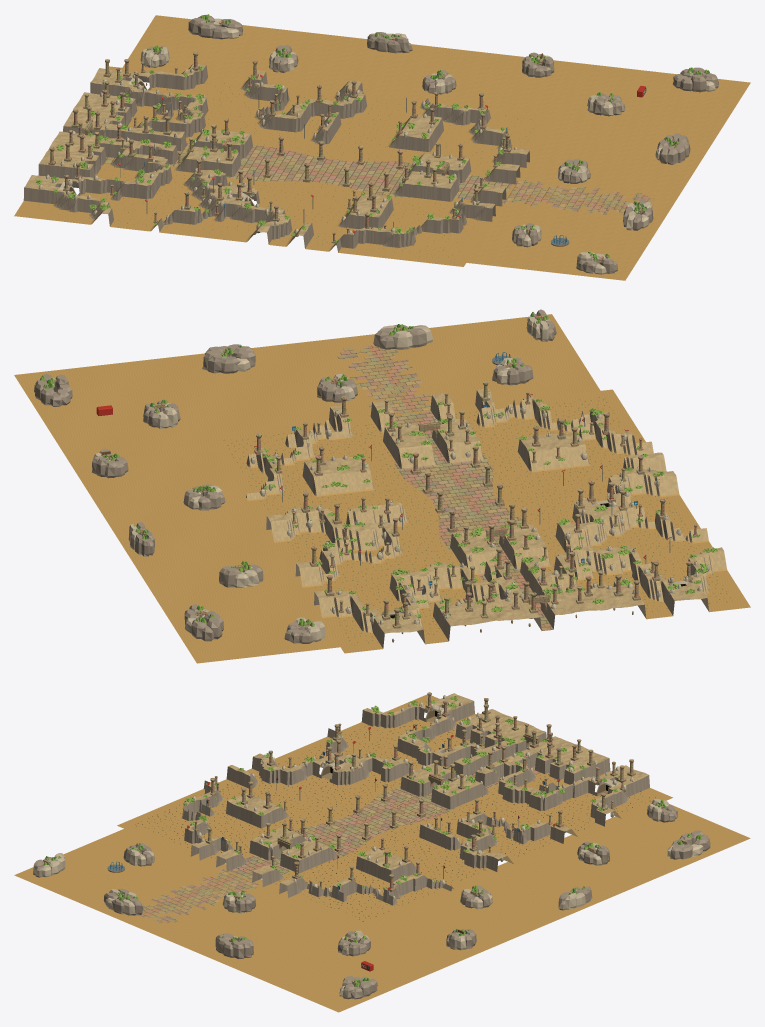
File: terrain-props.glb
3 views of the same model, one above another, from view 1: azimuth 30°, elevation 25°; view 2: azimuth 150°, elevation 25°; view 3: azimuth 270°, elevation 25° (orthographic). The views are drawn at different scales.
Visible parts, largest first — view 1: HM18-chunk-2-5-ground-support, HM18-chunk-4-4-ground-support, HM18-chunk-4-2-ground-support, HM18-chunk-5-1-ground-support, HM18-chunk-0-0-ground-support, HM18-chunk-0-3-ground-support, HM18-chunk-0-1-ground-support, HM18-chunk-1-0-ground-support, HM18-chunk-3-3-ground-support, HM18-chunk-3-2-ground-support, HM18-chunk-0-2-ground-support, HM18-chunk-3-1-ground-support (+44 smaller); view 2: HM18-chunk-2-5-ground-support, HM18-chunk-4-4-ground-support, HM18-chunk-4-2-ground-support, HM18-chunk-5-1-ground-support, HM18-chunk-0-0-ground-support, HM18-chunk-0-1-ground-support, HM18-chunk-2-3-ground-support, HM18-chunk-0-3-ground-support, HM18-chunk-3-1-ground-support, HM18-chunk-0-2-ground-support, HM18-chunk-1-3-ground-support, HM18-chunk-3-0-ground-support (+46 smaller); view 3: HM18-chunk-4-4-ground-support, HM18-chunk-2-5-ground-support, HM18-chunk-4-2-ground-support, HM18-chunk-5-1-ground-support, HM18-chunk-0-2-ground-support, HM18-chunk-0-0-ground-support, HM18-chunk-2-1-ground-support, HM18-chunk-2-0-ground-support, HM18-chunk-3-0-ground-support, HM18-chunk-1-1-ground-support, HM18-chunk-0-3-ground-support, HM18-chunk-1-2-ground-support (+42 smaller).
Boxes of the visible parts, <box> form: HM18-chunk-2-5-ground-support: <box>466,83,750,280</box>; HM18-chunk-4-4-ground-support: <box>476,63,750,247</box>; HM18-chunk-4-2-ground-support: <box>163,63,578,115</box>; HM18-chunk-5-1-ground-support: <box>122,15,576,71</box>; HM18-chunk-0-0-ground-support: <box>14,175,149,228</box>; HM18-chunk-0-3-ground-support: <box>325,202,444,262</box>; HM18-chunk-0-1-ground-support: <box>126,179,246,239</box>; HM18-chunk-1-0-ground-support: <box>38,133,170,181</box>; HM18-chunk-3-3-ground-support: <box>390,105,510,158</box>; HM18-chunk-3-2-ground-support: <box>291,96,410,147</box>; HM18-chunk-0-2-ground-support: <box>226,190,347,251</box>; HM18-chunk-3-1-ground-support: <box>192,85,304,136</box>; HM18-chunk-2-5-ground-support: <box>16,314,600,395</box>; HM18-chunk-4-4-ground-support: <box>14,375,556,458</box>; HM18-chunk-4-2-ground-support: <box>67,442,330,631</box>; HM18-chunk-5-1-ground-support: <box>67,458,339,663</box>; HM18-chunk-0-0-ground-support: <box>615,547,750,618</box>; HM18-chunk-0-1-ground-support: <box>584,497,712,561</box>; HM18-chunk-2-3-ground-support: <box>344,424,463,488</box>; HM18-chunk-0-3-ground-support: <box>523,403,653,465</box>; HM18-chunk-3-1-ground-support: <box>317,523,434,593</box>; HM18-chunk-0-2-ground-support: <box>554,452,685,509</box>; HM18-chunk-1-3-ground-support: <box>440,416,553,478</box>; HM18-chunk-3-0-ground-support: <box>355,570,469,649</box>; HM18-chunk-4-4-ground-support: <box>149,839,457,1012</box>; HM18-chunk-2-5-ground-support: <box>14,829,337,1011</box>; HM18-chunk-4-2-ground-support: <box>371,811,641,961</box>; HM18-chunk-5-1-ground-support: <box>458,804,750,961</box>; HM18-chunk-0-2-ground-support: <box>219,753,342,807</box>; HM18-chunk-0-0-ground-support: <box>350,693,476,745</box>; HM18-chunk-2-1-ground-support: <box>397,763,517,827</box>; HM18-chunk-2-0-ground-support: <box>466,731,597,789</box>; HM18-chunk-3-0-ground-support: <box>521,754,651,821</box>; HM18-chunk-1-1-ground-support: <box>343,741,465,804</box>; HM18-chunk-0-3-ground-support: <box>145,780,265,839</box>; HM18-chunk-1-2-ground-support: <box>282,770,396,833</box>.
Size of the model in its own units: 148 by 6.4 by 144.
Materials: 3 (2 with a texture image).
